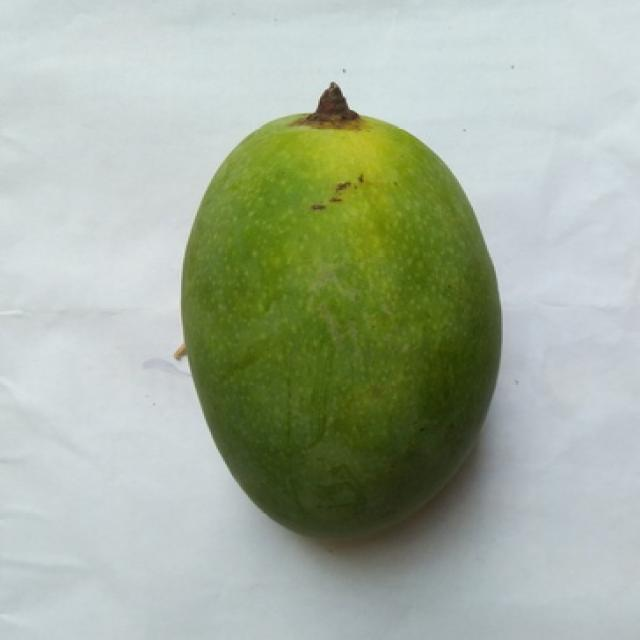Mango: (181, 85, 499, 535)
